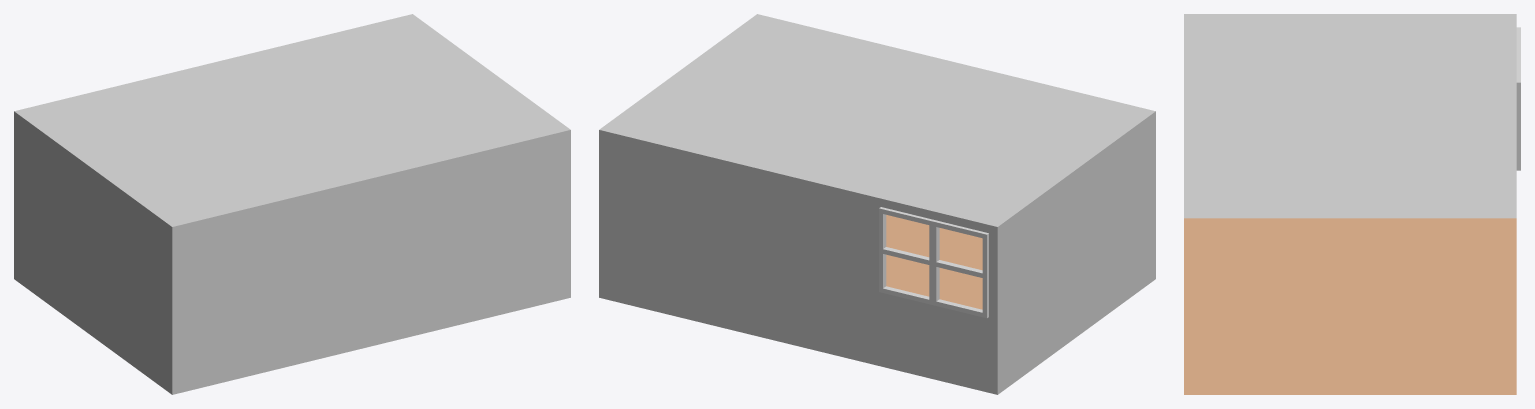
The model's file is room.gltf.
3 views of the same model, side by side, from view 1: azimuth 30°, elevation 25°; view 2: azimuth 150°, elevation 25°; view 3: azimuth 270°, elevation 25° (orthographic). The views are drawn at different scales.
Visible parts, largest first — view 1: Cube.001; view 2: Cube.001, Cube; view 3: Cube.001, Cube.
Boxes of the visible parts, left/top/right/bottom form: Cube.001: left=14, top=14, right=570, bottom=394; Cube.001: left=599, top=14, right=1155, bottom=394; Cube: left=879, top=207, right=988, bottom=318; Cube.001: left=1184, top=14, right=1516, bottom=394; Cube: left=1516, top=27, right=1520, bottom=170.
Size of the model in its own units: 40 by 16.1 by 27.84.
